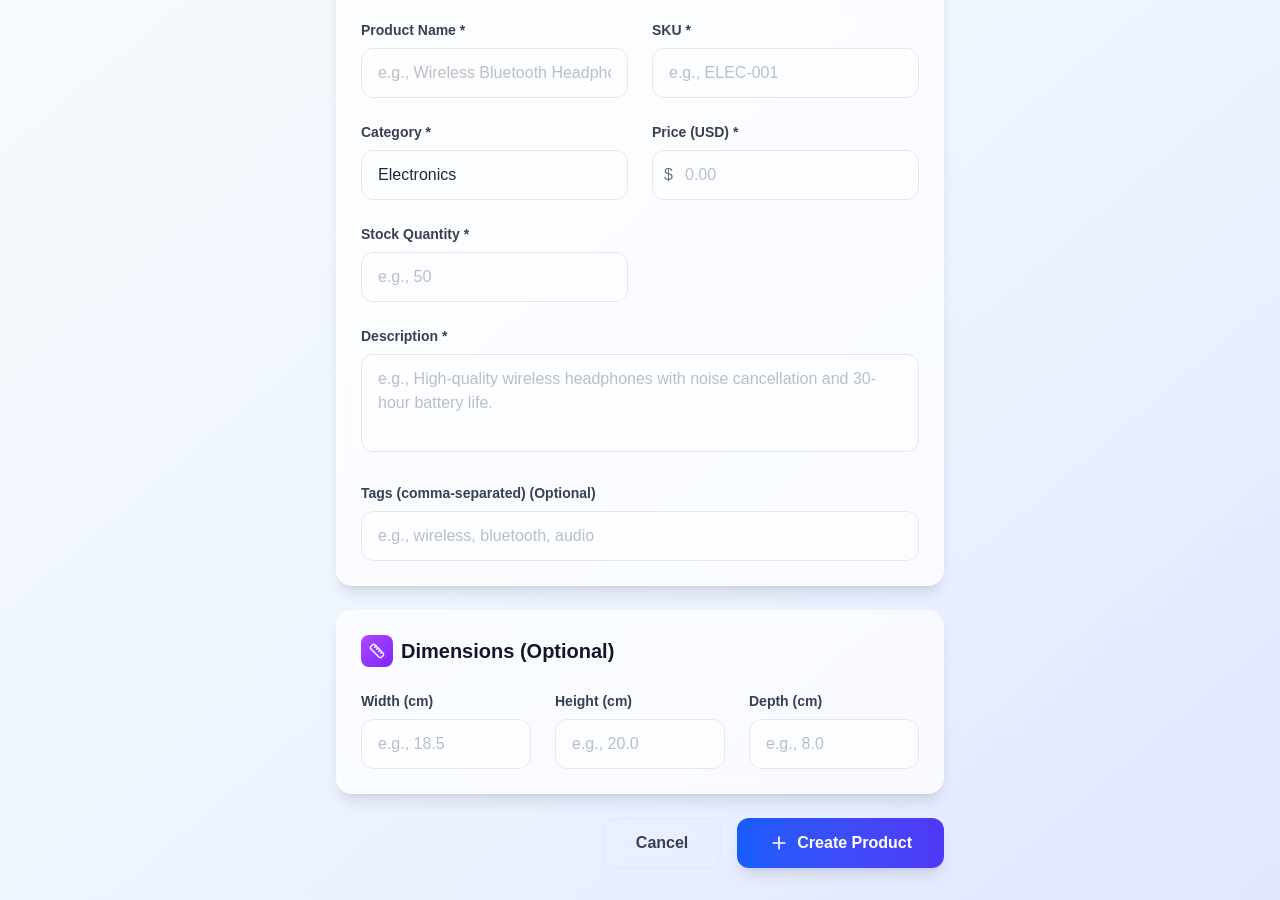
Test: NewProductPage - Simple Tests › should show validation errors when submitting empty form
This screenshot has width=1280, height=900.
(page scrolled)
Click the button "Create Product".
click(841, 843)  # box x1=737 y1=818 x2=944 y2=868
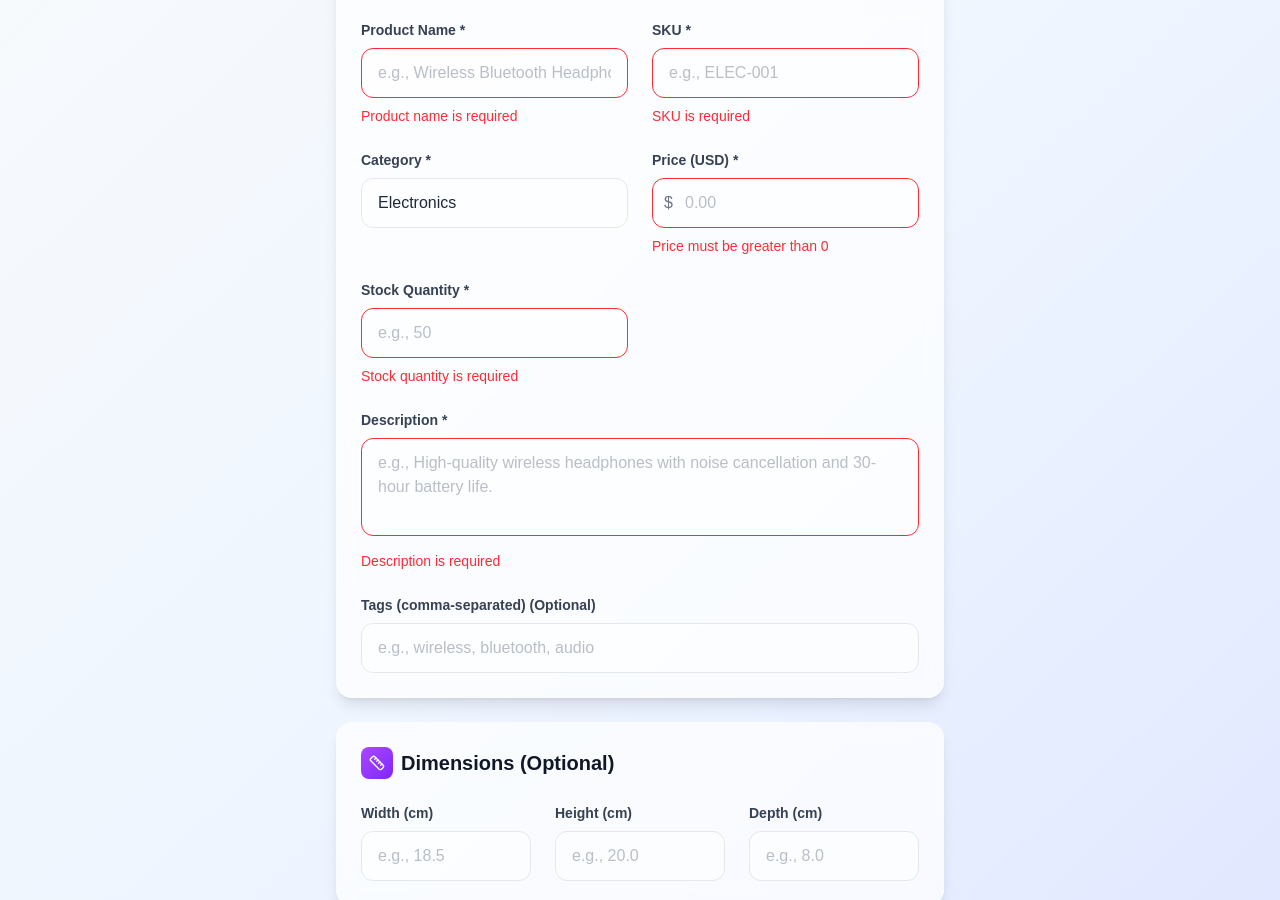
Result: the text "Product name is required" is shown at x1=361 y1=108 x2=517 y2=124
Result: the text "SKU is required" is shown at x1=652 y1=108 x2=750 y2=124
Result: the text "Description is required" is shown at x1=361 y1=553 x2=500 y2=569
